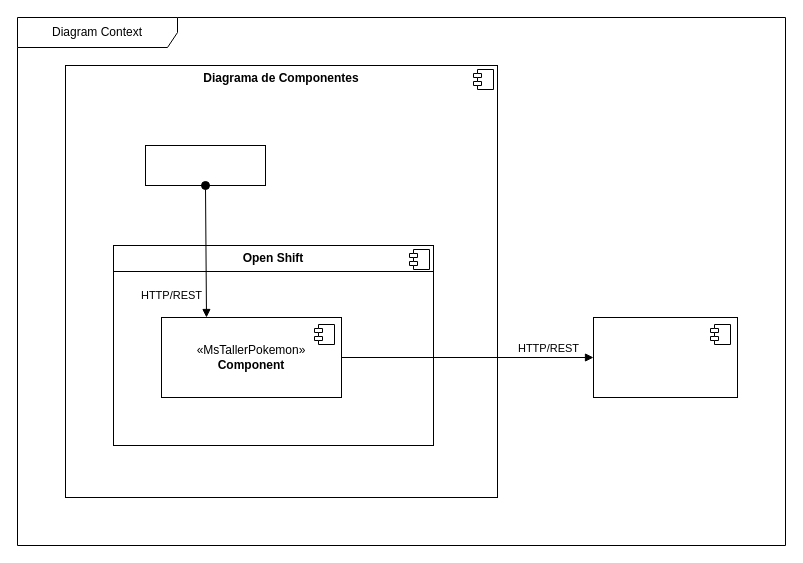
Image size: 803x563. Some labels were removed from this diagram. The centre of each missing label's shape, as x and y in pixels:
"Client" belongs at [205,165].
"«API Pokemon» Component" belongs at [665,357].
